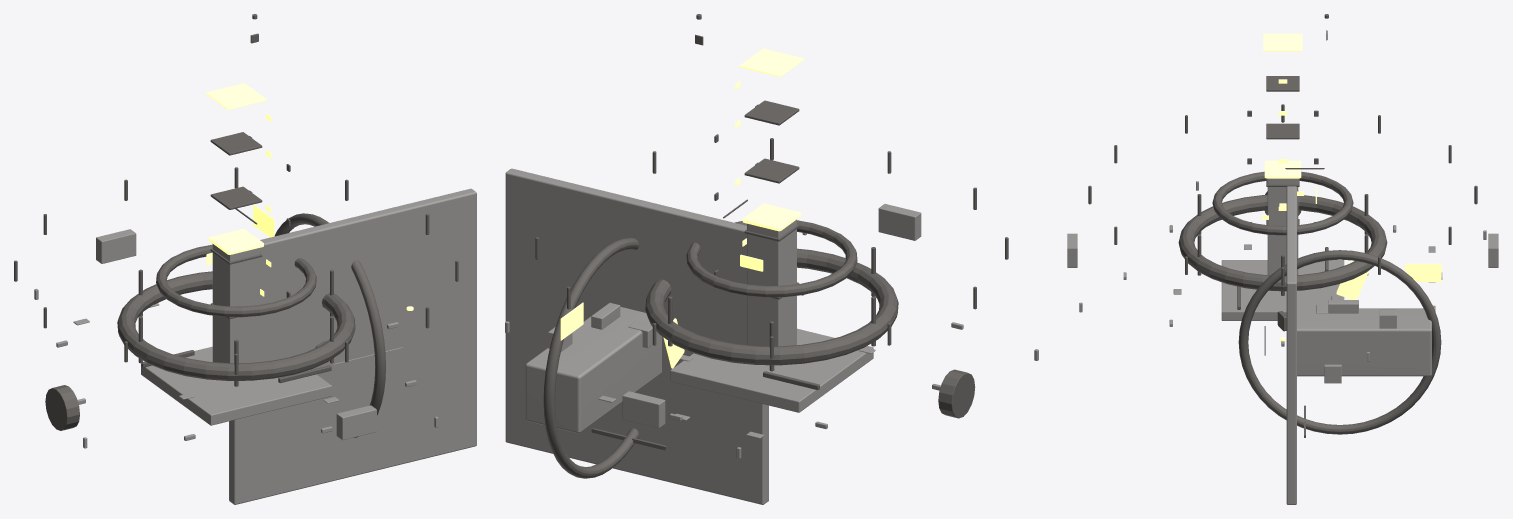
The picture shows the model from 3 angles, left to right: view 1: azimuth 30°, elevation 25°; view 2: azimuth 150°, elevation 25°; view 3: azimuth 270°, elevation 25°; orthographic projection. The views are drawn at different scales.
Parts seen in each view (by area): view 1: Hub_Deck, STN_ring, STN_deck, STN_tower, STN_ring_upper, Hub_Ring, DET_dock_collar_b, DET_hangar_slot_b, DET_hangar_slot_a, DET_gold_crown_lip, DET_gold_trim_band, DET_tower_panel_belt_3 (+1 smaller); view 2: Hub_Deck, Hub_Tower, STN_ring, STN_deck, STN_tower, Hub_Ring, STN_ring_upper, DET_dock_collar_b, DET_hangar_slot_a, DET_hangar_slot_b, DET_gold_crown_lip, DET_gold_trim_band (+2 smaller); view 3: Hub_Tower, STN_ring, Hub_Ring, Hub_Deck, STN_deck, STN_ring_upper, STN_tower, DET_gold_crown_lip, DET_gold_trim_band, DET_billboard_face_glow, DET_tower_panel_belt_2, DET_tower_panel_belt_3 (+1 smaller).
Part boxes in pixels (x1,y1,x2,y2): Hub_Deck: (229, 188, 476, 504); STN_ring: (117, 271, 355, 380); STN_deck: (141, 346, 331, 425); STN_tower: (212, 244, 259, 363); STN_ring_upper: (156, 244, 316, 317); Hub_Ring: (274, 213, 385, 437); DET_dock_collar_b: (45, 385, 79, 430); DET_hangar_slot_b: (336, 405, 376, 440); DET_hangar_slot_a: (96, 229, 136, 263); DET_gold_crown_lip: (206, 83, 266, 109); DET_gold_trim_band: (208, 229, 263, 254); DET_tower_panel_belt_3: (210, 132, 262, 155); Hub_Deck: (505, 168, 768, 504); Hub_Tower: (525, 306, 661, 433); STN_ring: (645, 248, 898, 365); STN_deck: (670, 328, 873, 412); STN_tower: (747, 219, 796, 346); Hub_Ring: (543, 238, 638, 478); STN_ring_upper: (686, 220, 857, 297); DET_dock_collar_b: (938, 369, 975, 418); DET_hangar_slot_a: (622, 391, 665, 428); DET_hangar_slot_b: (878, 204, 921, 240); DET_gold_crown_lip: (739, 48, 804, 76); DET_gold_trim_band: (742, 203, 801, 231); Hub_Tower: (1297, 308, 1431, 376); STN_ring: (1178, 194, 1387, 291); Hub_Ring: (1238, 250, 1441, 434); Hub_Deck: (1286, 186, 1296, 504); STN_deck: (1221, 260, 1344, 320); STN_ring_upper: (1212, 171, 1353, 235); STN_tower: (1267, 178, 1298, 275); DET_gold_crown_lip: (1263, 33, 1302, 51); DET_gold_trim_band: (1264, 160, 1301, 178); DET_billboard_face_glow: (1405, 263, 1441, 281); DET_tower_panel_belt_2: (1266, 123, 1299, 139); DET_tower_panel_belt_3: (1266, 76, 1299, 91).
Bounding box in the file's own units: 51.2 × 51 × 49.2.
